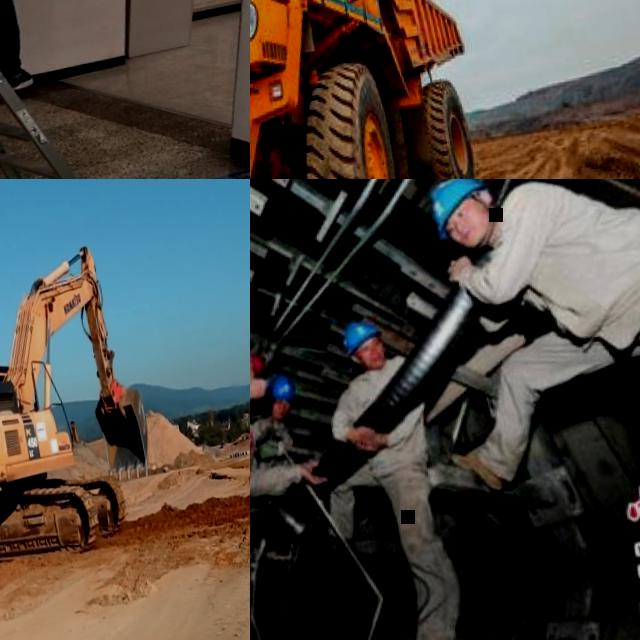helmet: (425, 179, 491, 232), (338, 317, 388, 357), (269, 375, 296, 404), (250, 338, 264, 378)
machinery: (0, 236, 163, 573), (250, 0, 497, 179)
no_mask: (455, 218, 493, 246), (366, 352, 386, 369), (268, 403, 285, 420)
no_vest: (494, 179, 640, 344), (350, 361, 424, 449), (250, 419, 292, 461)
person: (410, 179, 640, 502), (296, 312, 447, 566), (250, 326, 336, 543), (250, 373, 301, 468)
